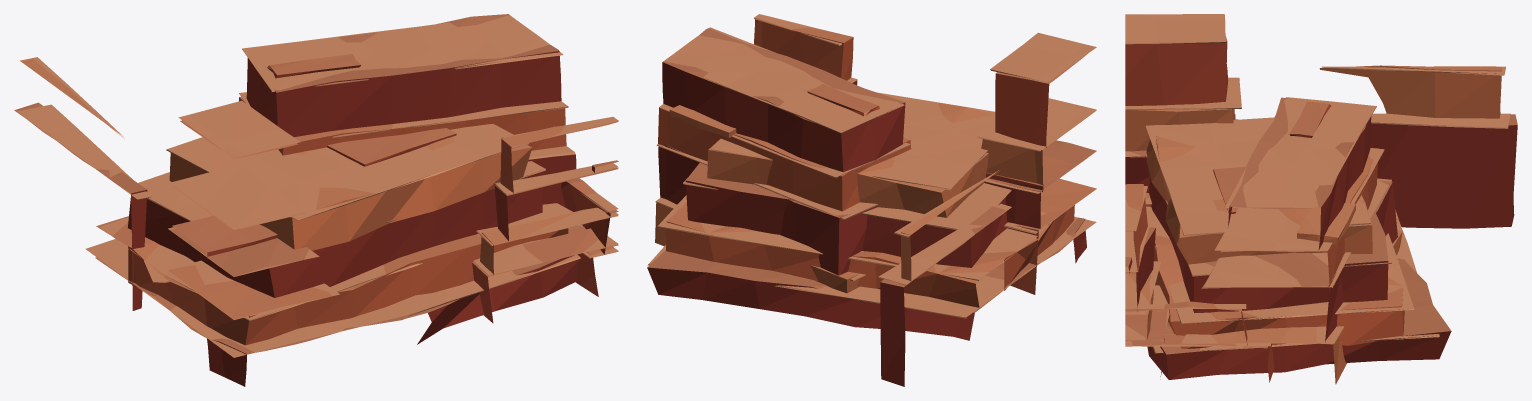
3 renders of one model, left to right at view 1: azimuth 30°, elevation 25°; view 2: azimuth 150°, elevation 25°; view 3: azimuth 270°, elevation 25°, orthographic. The views are drawn at different scales.
Visible parts, largest first — view 1: scene.3.5; view 2: scene.3.5; view 3: scene.3.5.
Part boxes in pixels (<box>): scene.3.5: <box>14,14,618,386</box>; scene.3.5: <box>647,14,1096,386</box>; scene.3.5: <box>1125,14,1517,384</box>.
Size of the model in its own units: 62.5 by 36.17 by 62.21.
